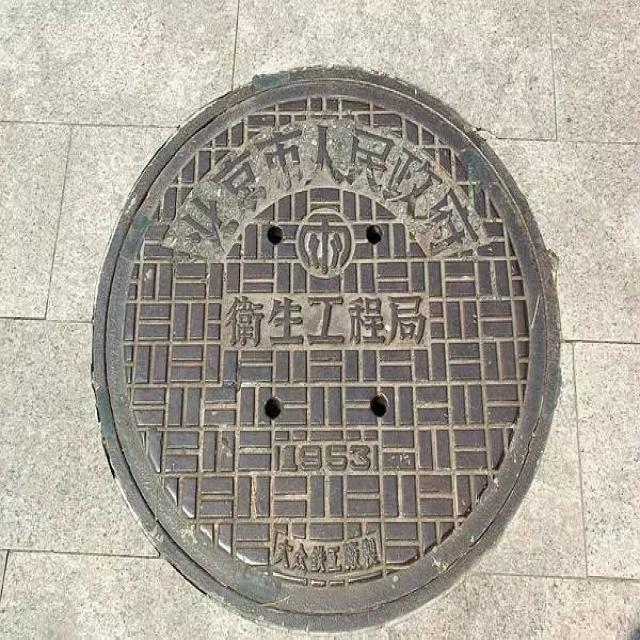manhole: (94, 68, 558, 629)
